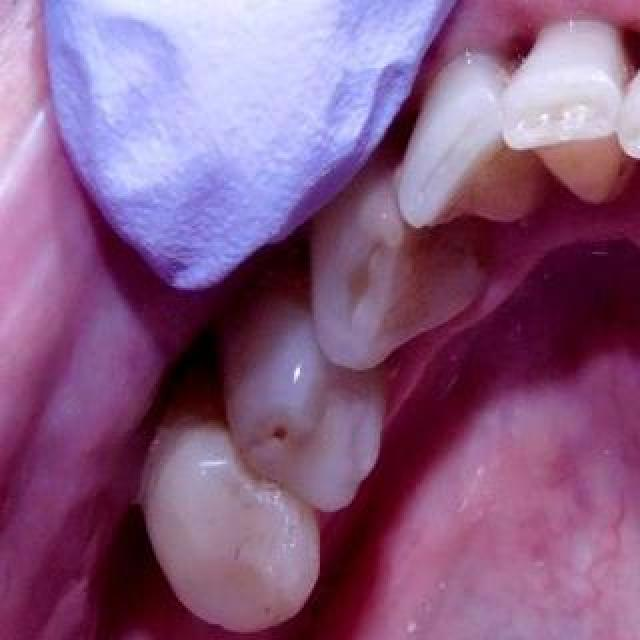missing: (118, 558, 176, 640)
stains: (372, 216, 484, 320)
